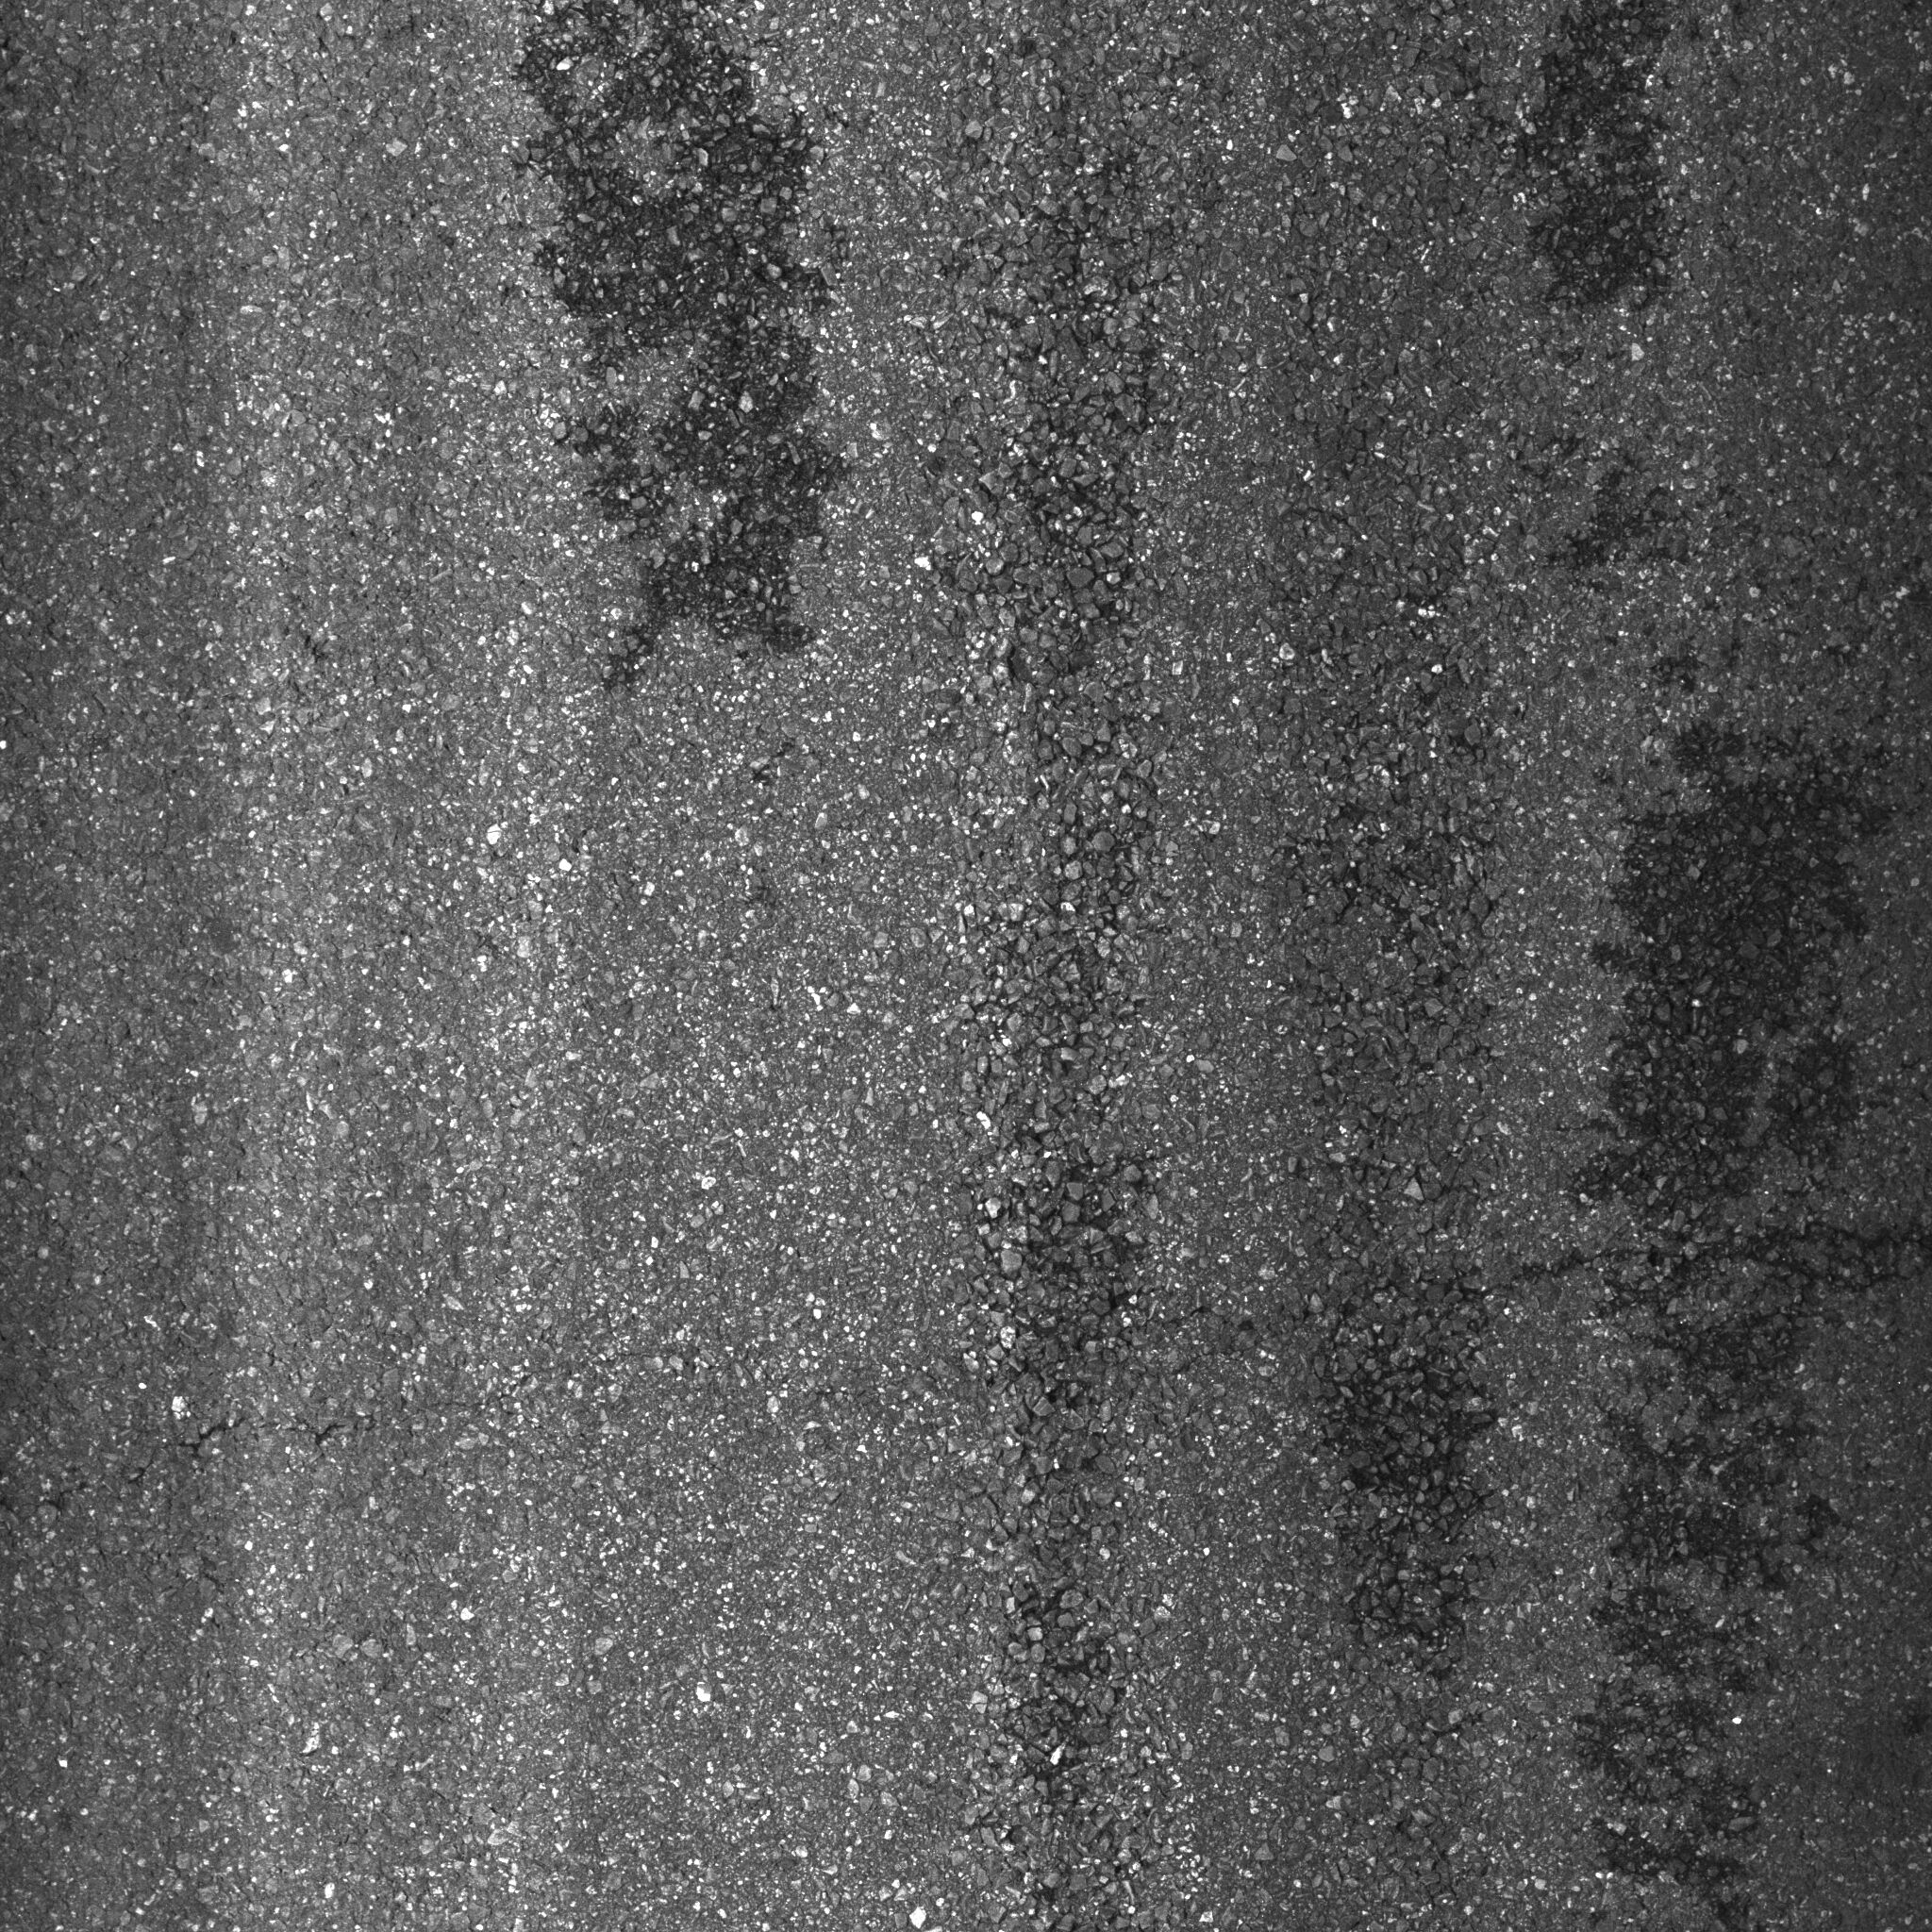transeverse: (126, 1210, 1932, 1514)
